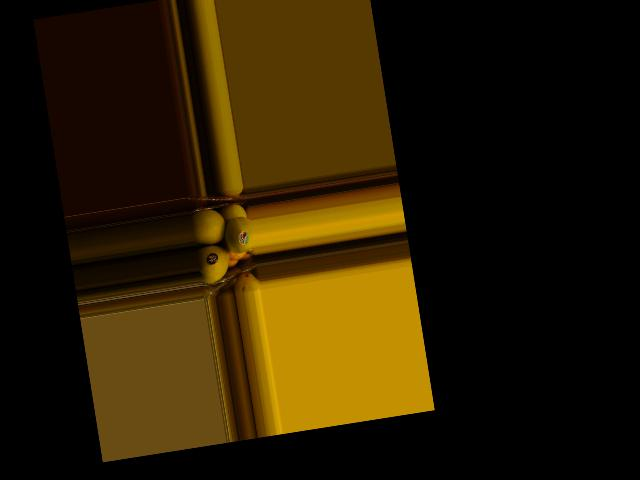apple: (222, 214, 255, 259)
